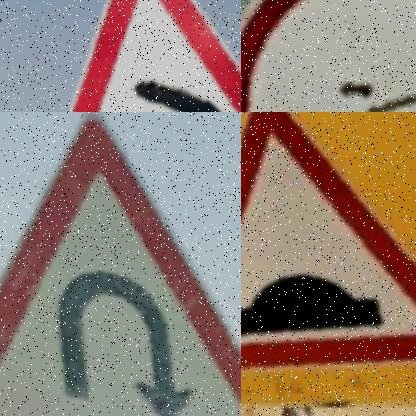Left bend: (70, 0, 241, 112)
Slow: (241, 0, 416, 112)
Speed Breaker Ahead: (241, 112, 416, 405)
